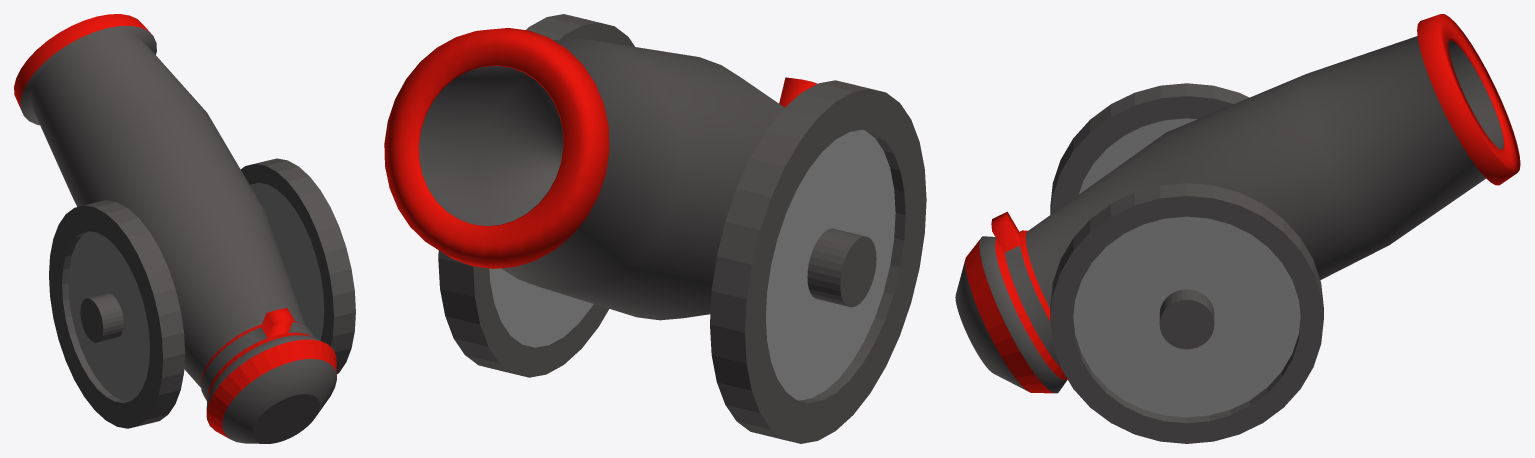
The model's file is cannon.fbx.
3 renders of one model, left to right at view 1: azimuth 30°, elevation 25°; view 2: azimuth 150°, elevation 25°; view 3: azimuth 270°, elevation 25°, orthographic. The views are drawn at different scales.
Parts seen in each view (by area): view 1: Cylinder; view 2: Cylinder; view 3: Cylinder.
Boxes of the visible parts, x1,y1,x2,y2 form: Cylinder: (14,14,355,443); Cylinder: (384,14,926,443); Cylinder: (955,14,1520,443).
Bounding box in the file's own units: 396 × 535 × 752.
